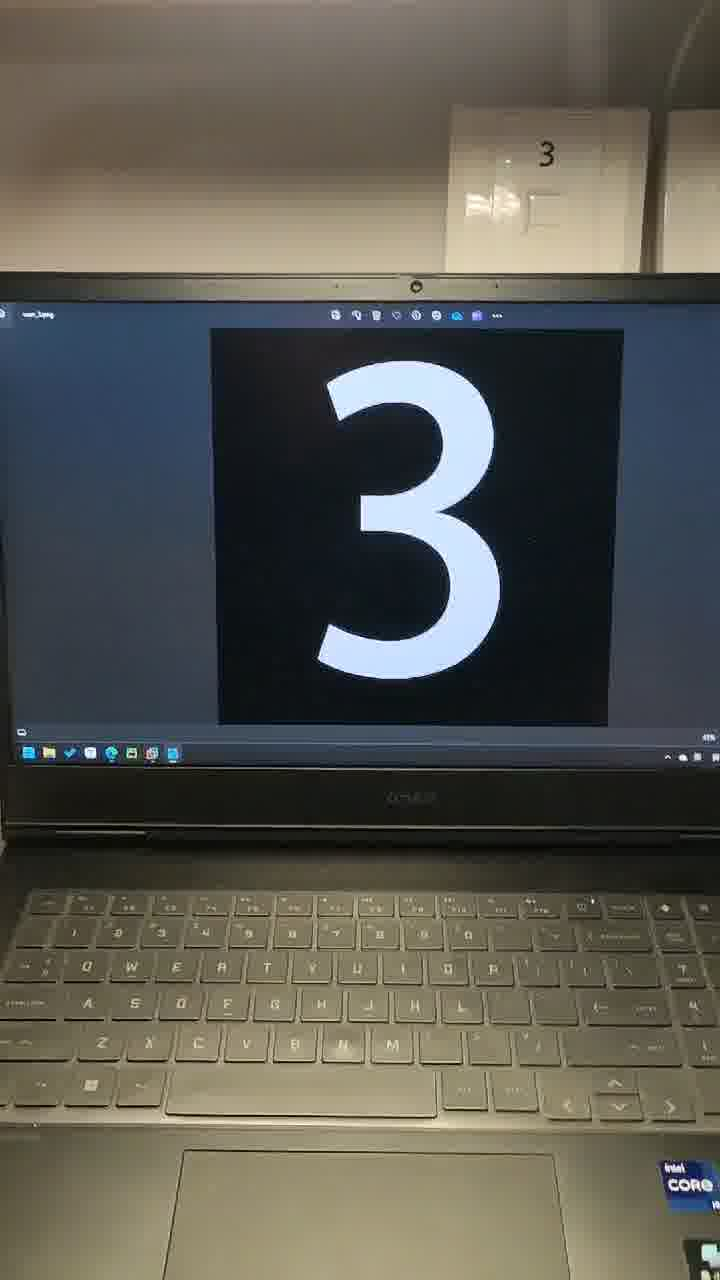three: (266, 350, 592, 717)
